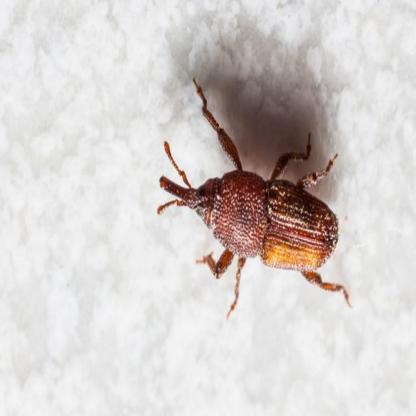rice-bug: (161, 142, 341, 286)
